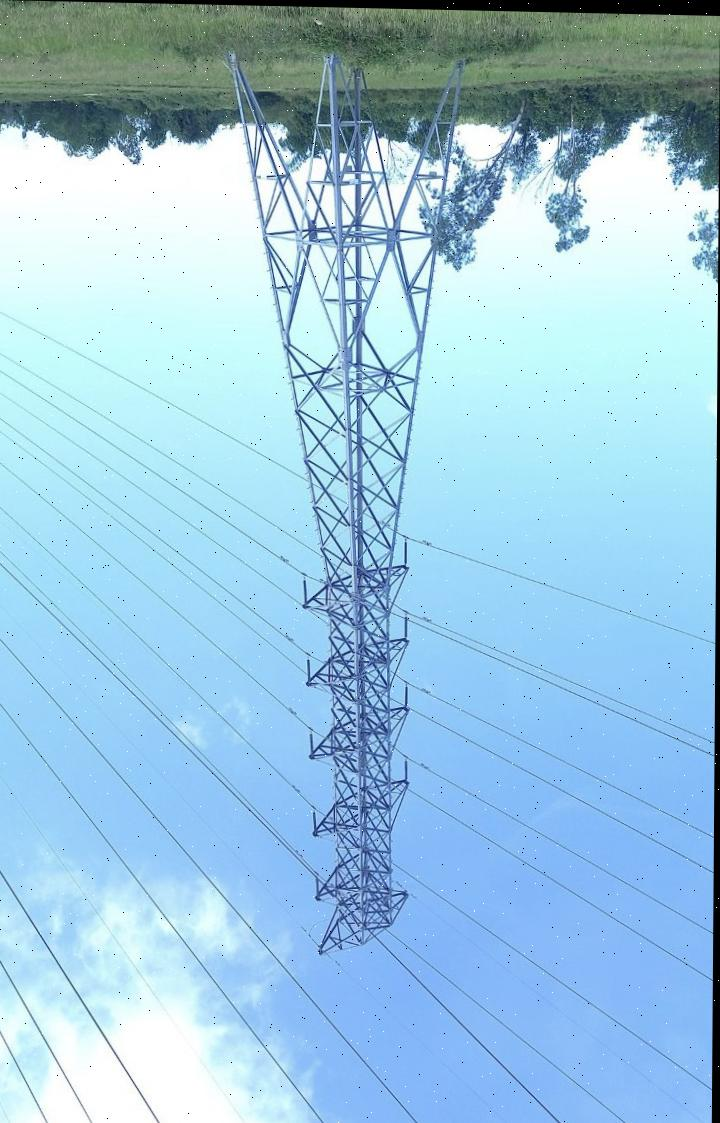tower: (233, 74, 475, 962)
